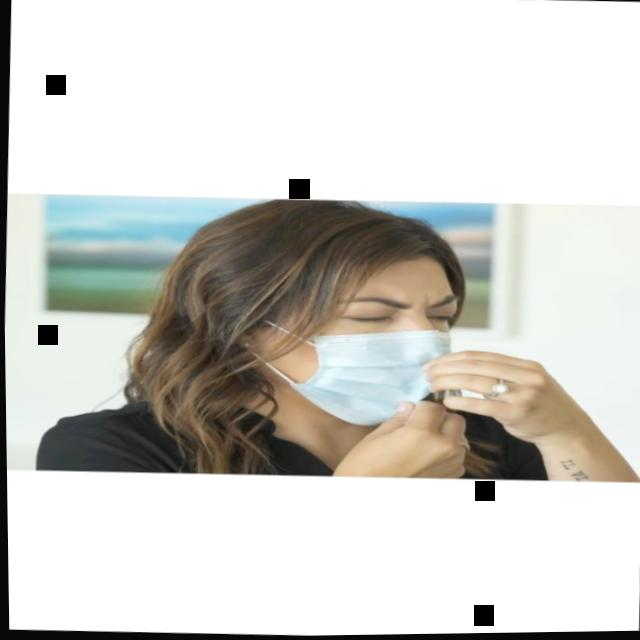Mask: (271, 235, 464, 433)
